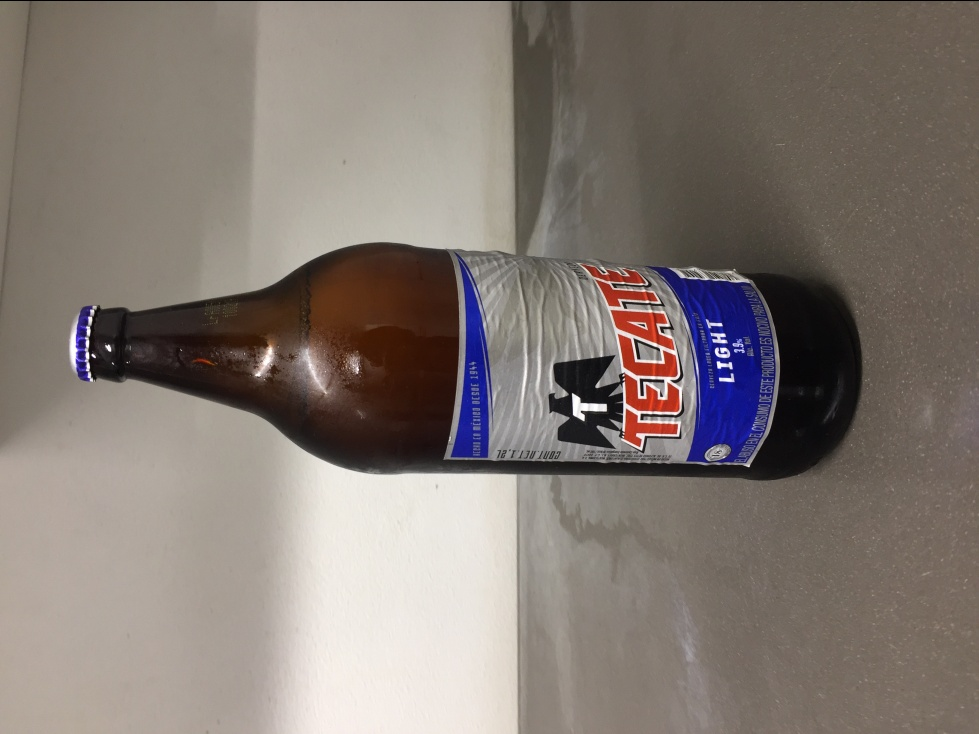tecateC: (75, 243, 862, 480)
